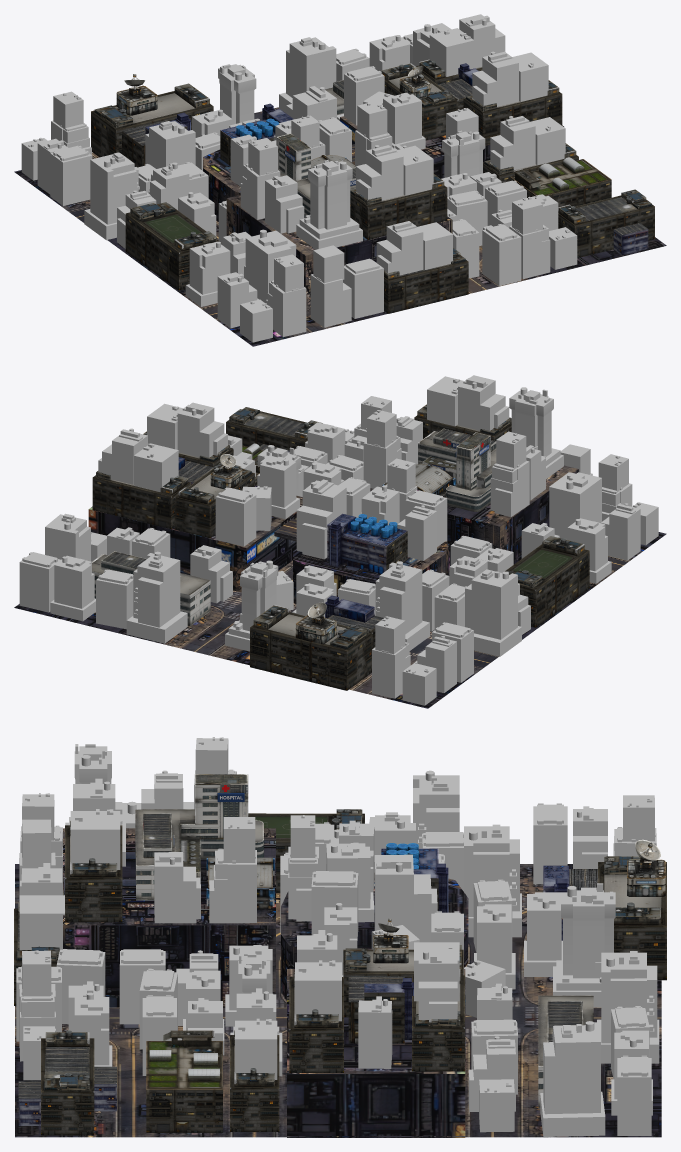
File: CP_Slums_Pack_200x200_03.fbx
3 renders of one model, top to bottom at view 1: azimuth 30°, elevation 25°; view 2: azimuth 150°, elevation 25°; view 3: azimuth 270°, elevation 25°, orthographic. The views are drawn at different scales.
Parts seen in each view (by area): view 1: CP_Slums_Pack_200x200_03; view 2: CP_Slums_Pack_200x200_03; view 3: CP_Slums_Pack_200x200_03.
Part boxes in pixels (box(x1,y1,x2,y2)): CP_Slums_Pack_200x200_03: box(14, 14, 666, 346); CP_Slums_Pack_200x200_03: box(14, 375, 666, 708); CP_Slums_Pack_200x200_03: box(14, 737, 666, 1137).
Size of the model in its own units: 20043 by 6598 by 20187.
